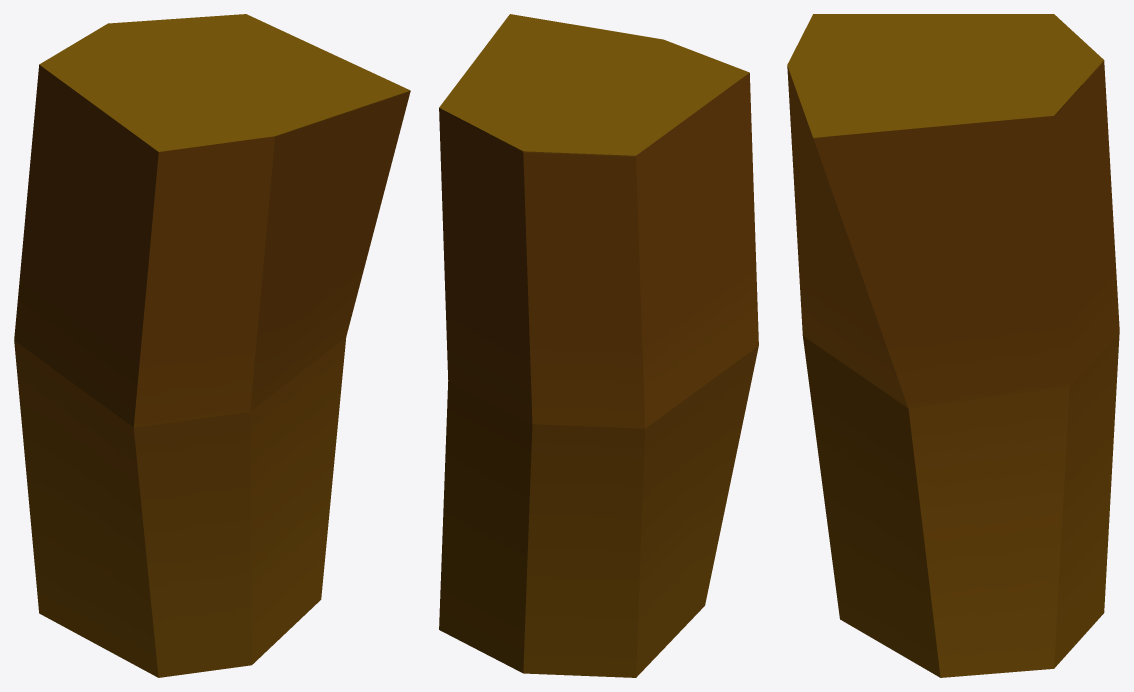
Rendered from stone_01.fbx.
The picture shows the model from 3 angles, left to right: view 1: azimuth 30°, elevation 25°; view 2: azimuth 150°, elevation 25°; view 3: azimuth 270°, elevation 25°; orthographic projection. The views are drawn at different scales.
Parts seen in each view (by area): view 1: Cube.122; view 2: Cube.122; view 3: Cube.122.
Boxes of the visible parts, x1,y1,x2,y2 form: Cube.122: (14, 14, 410, 677); Cube.122: (439, 14, 758, 677); Cube.122: (787, 14, 1119, 677).
Bounding box in the file's own units: 608 × 1183 × 644.
